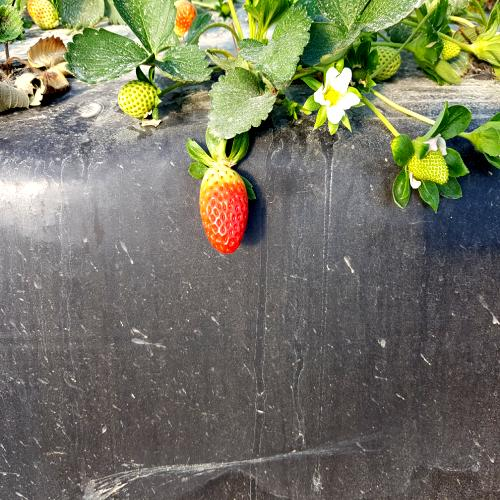partially-ripe: (199, 165, 253, 258)
